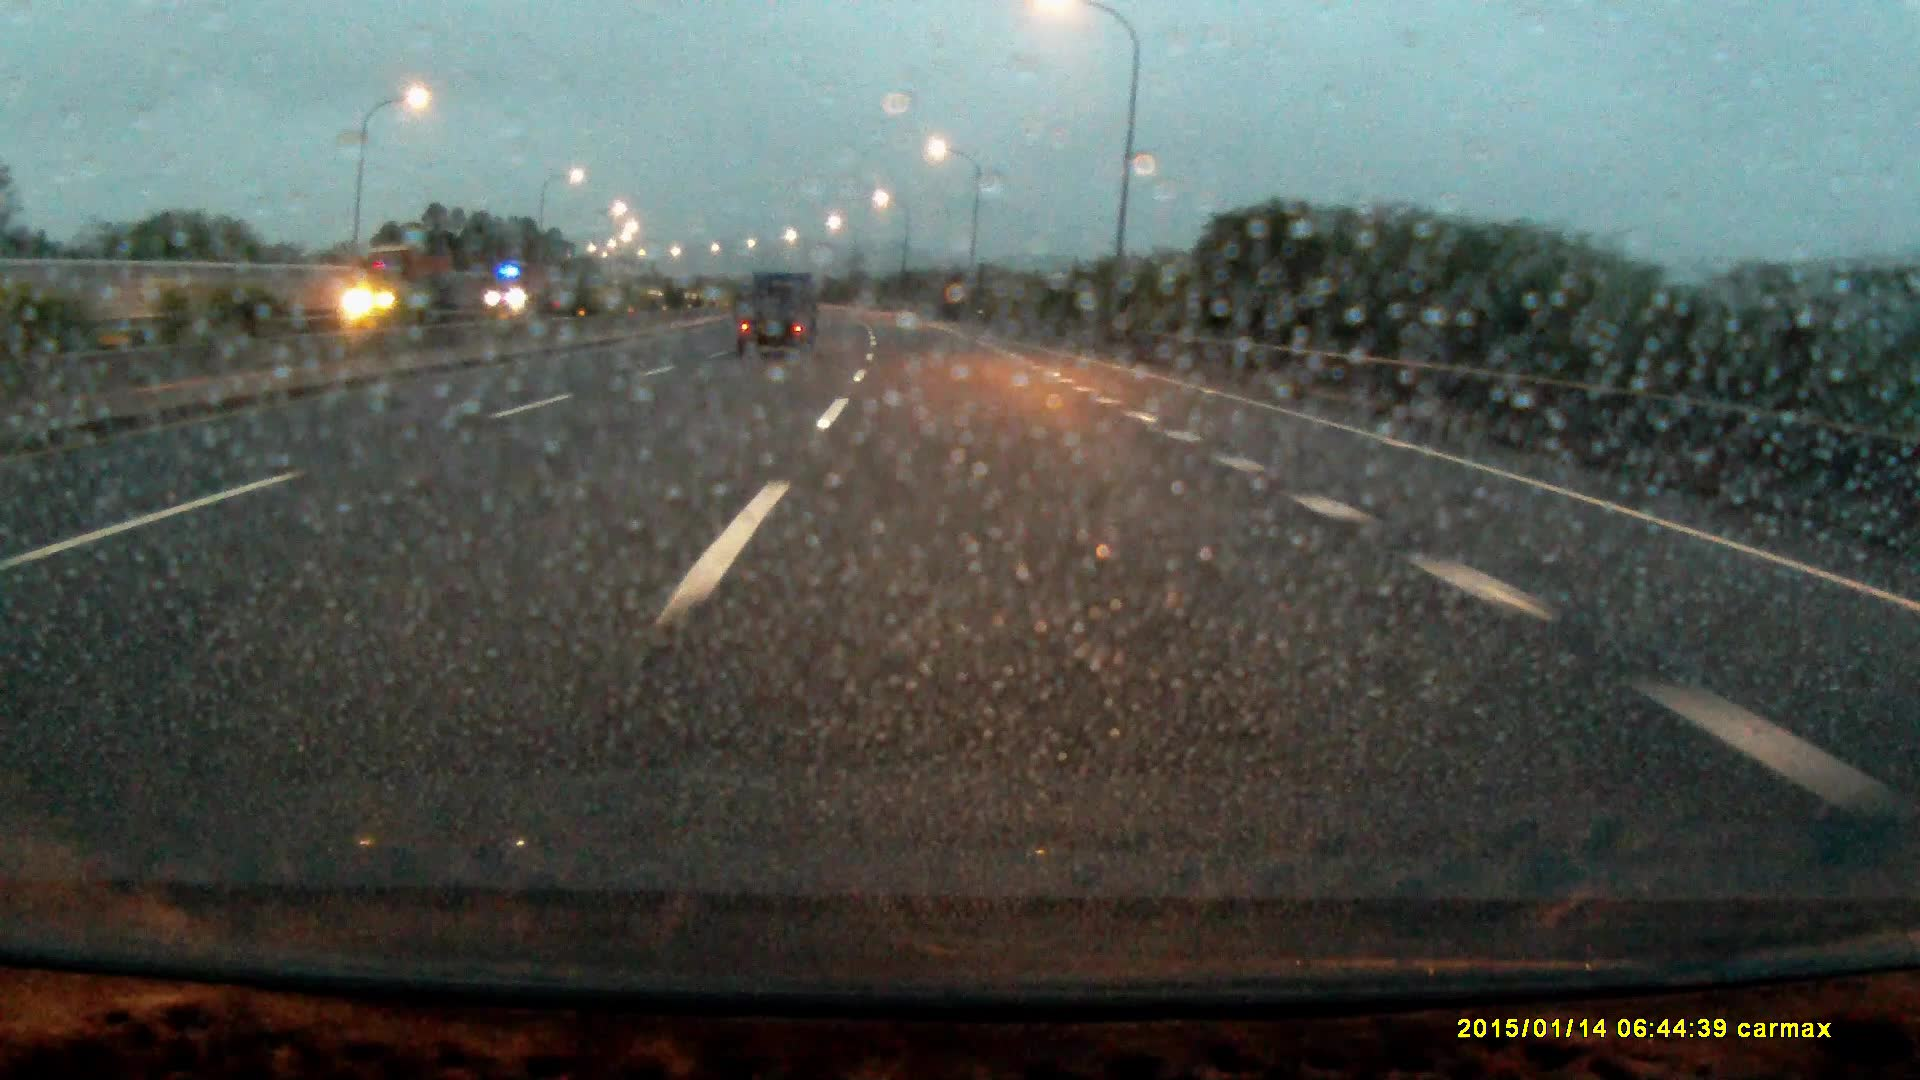vehicle: (344, 249, 462, 323), (736, 269, 816, 360), (485, 262, 558, 315)
